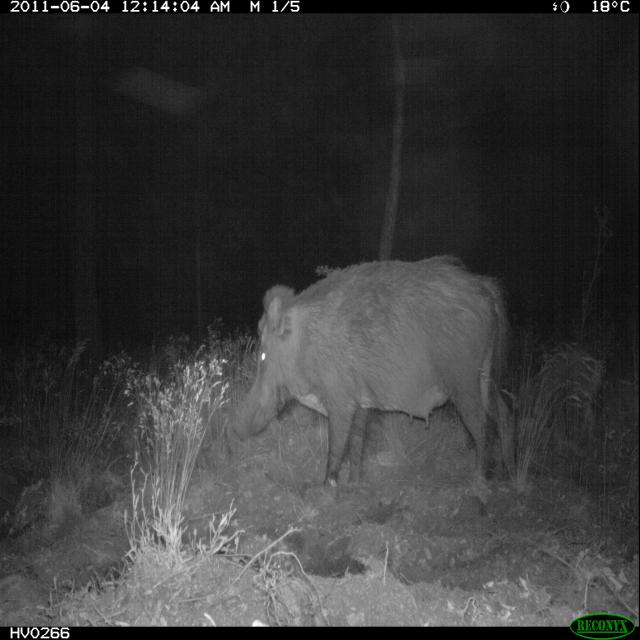boar: (203, 230, 544, 509)
